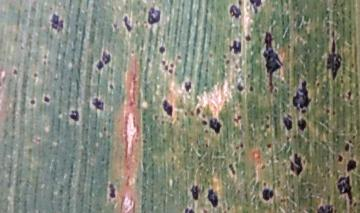tarspot: (261, 29, 283, 91), (288, 77, 312, 115), (323, 37, 344, 80), (336, 175, 354, 205), (286, 151, 303, 179), (94, 48, 111, 71), (49, 11, 65, 34), (146, 6, 163, 26), (90, 94, 106, 115), (205, 187, 220, 209), (161, 97, 175, 120), (208, 114, 222, 136), (225, 39, 243, 56), (227, 2, 243, 21), (295, 115, 308, 134), (282, 112, 293, 134), (189, 183, 201, 203), (181, 78, 196, 94), (247, 1, 263, 15), (261, 187, 276, 201), (315, 202, 334, 213), (68, 108, 82, 122), (345, 157, 357, 173), (123, 15, 133, 34), (107, 181, 116, 200), (40, 93, 53, 105), (156, 43, 167, 57), (235, 79, 245, 94), (182, 204, 196, 213), (243, 33, 254, 44), (198, 117, 208, 129), (160, 58, 169, 70), (343, 141, 351, 154), (29, 95, 37, 108), (265, 139, 273, 152), (336, 153, 344, 165), (193, 107, 203, 116), (246, 84, 255, 94), (168, 60, 177, 70)
